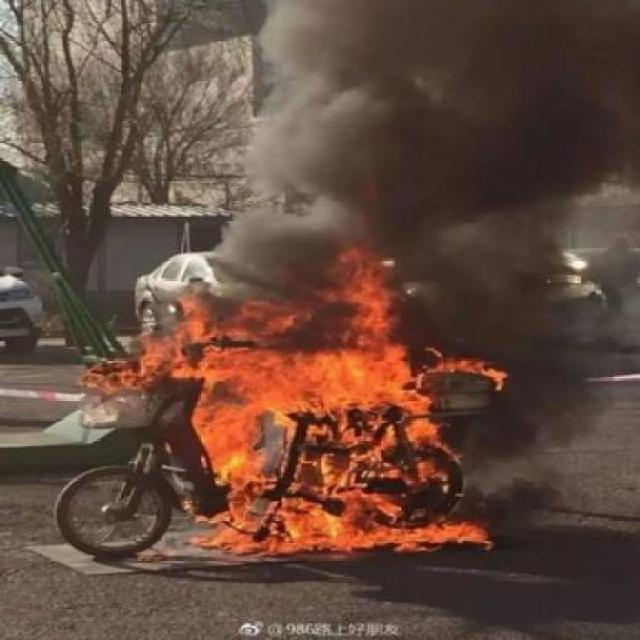Fire: (111, 246, 502, 552)
Smoke: (224, 0, 632, 351)
